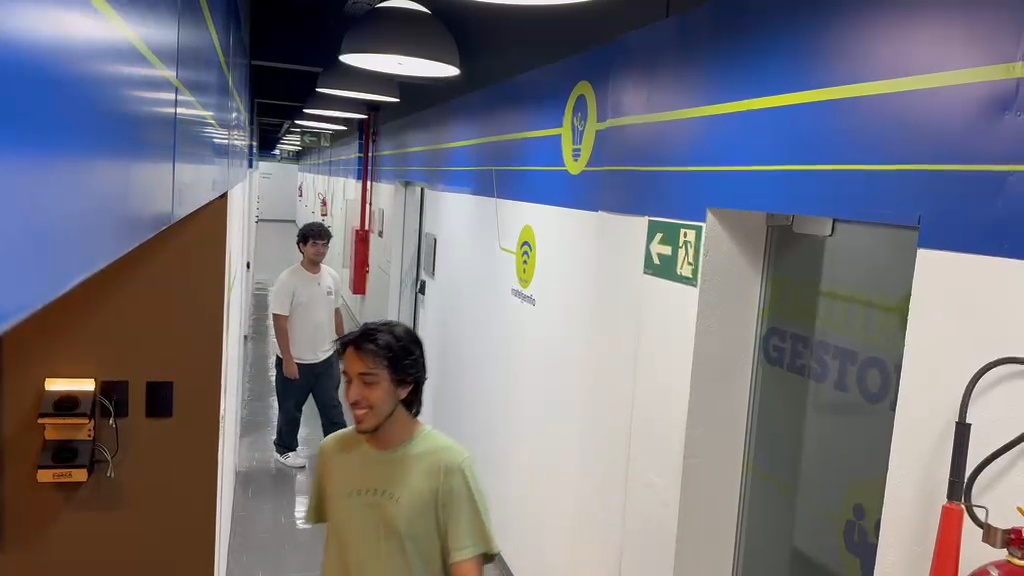person: (305, 321, 507, 574), (269, 220, 362, 463)
